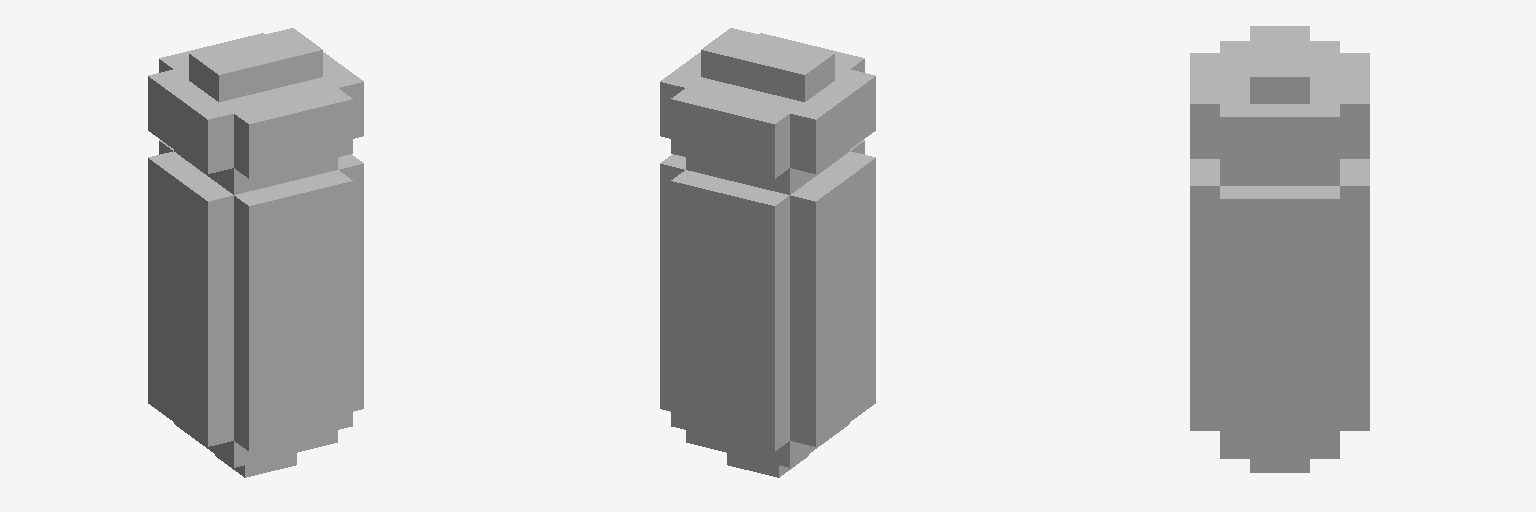
Rendered from Carrot.obj.
The picture shows the model from 3 angles: view 1: azimuth 30°, elevation 25°; view 2: azimuth 150°, elevation 25°; view 3: azimuth 270°, elevation 25°; orthographic projection.
Visible parts, largest first — view 1: object 1; view 2: object 1; view 3: object 1.
Boxes of the visible parts, x1,y1,x2,y2 form: object 1: [148, 28, 363, 477]; object 1: [660, 28, 875, 477]; object 1: [1190, 26, 1369, 472].
Size of the model in its own units: 0.6 by 1.5 by 0.6.